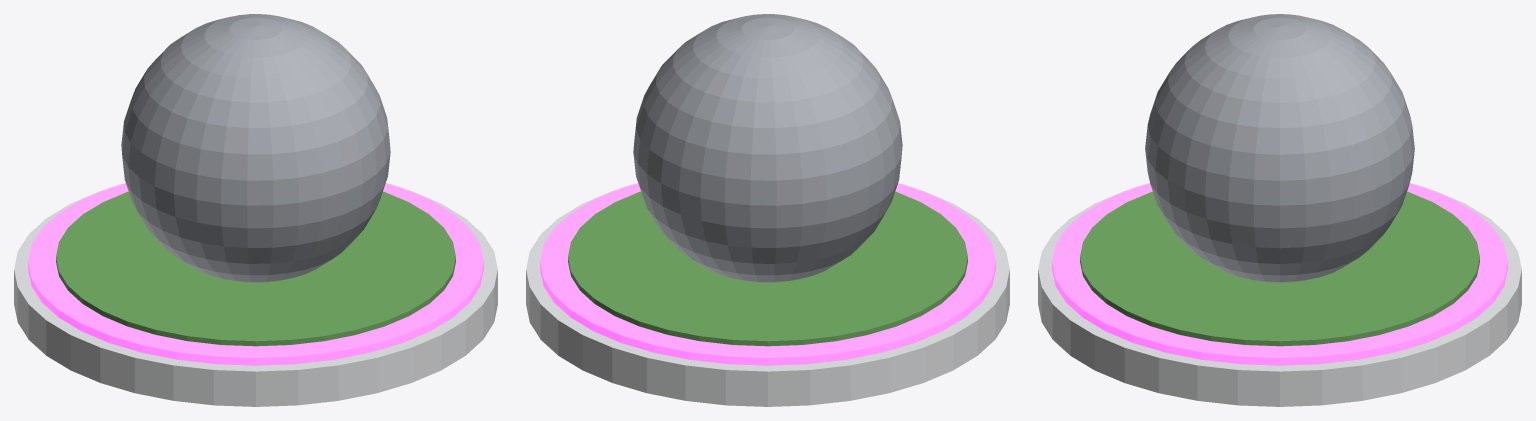
File: chrome-sphere.glb
3 views of the same model, side by side, from view 1: azimuth 30°, elevation 25°; view 2: azimuth 150°, elevation 25°; view 3: azimuth 270°, elevation 25° (orthographic).
Parts seen in each view (by area): view 1: chrome-sphere; view 2: chrome-sphere; view 3: chrome-sphere.
Boxes of the visible parts, x1,y1,x2,y2 form: chrome-sphere: (14, 14, 497, 406); chrome-sphere: (526, 14, 1009, 406); chrome-sphere: (1038, 14, 1521, 406).
Bounding box in the file's own units: 5.2 × 3.3 × 5.2.
